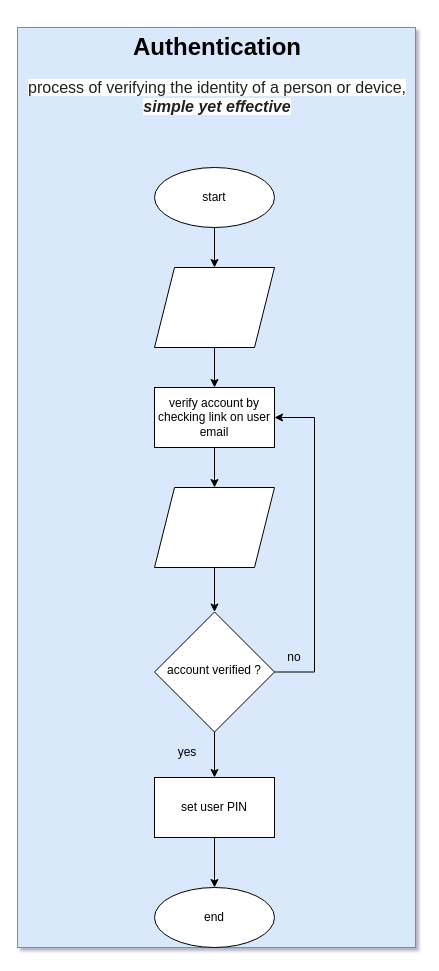
Image size: 439x971. Some labels were removed from this diagram. The centre of each missing label's shape, as x and y in pixels:
"login: email, password" belongs at (x=214, y=527).
"registration: email, username, password" belongs at (x=214, y=307).
